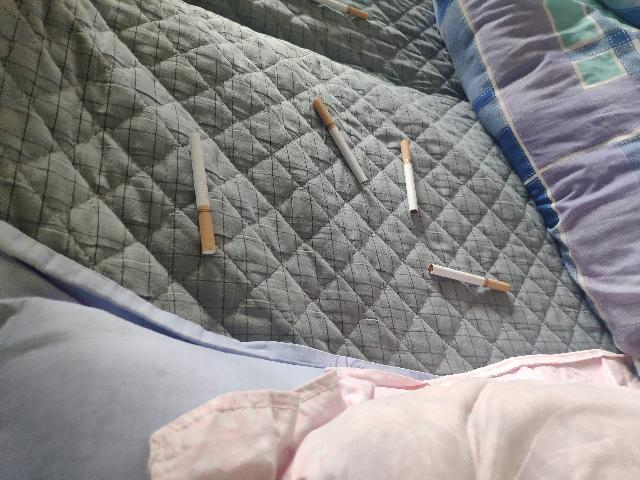Smoking: (313, 98, 369, 184), (189, 132, 217, 254), (429, 264, 511, 292), (401, 140, 419, 216), (310, 0, 370, 21)
